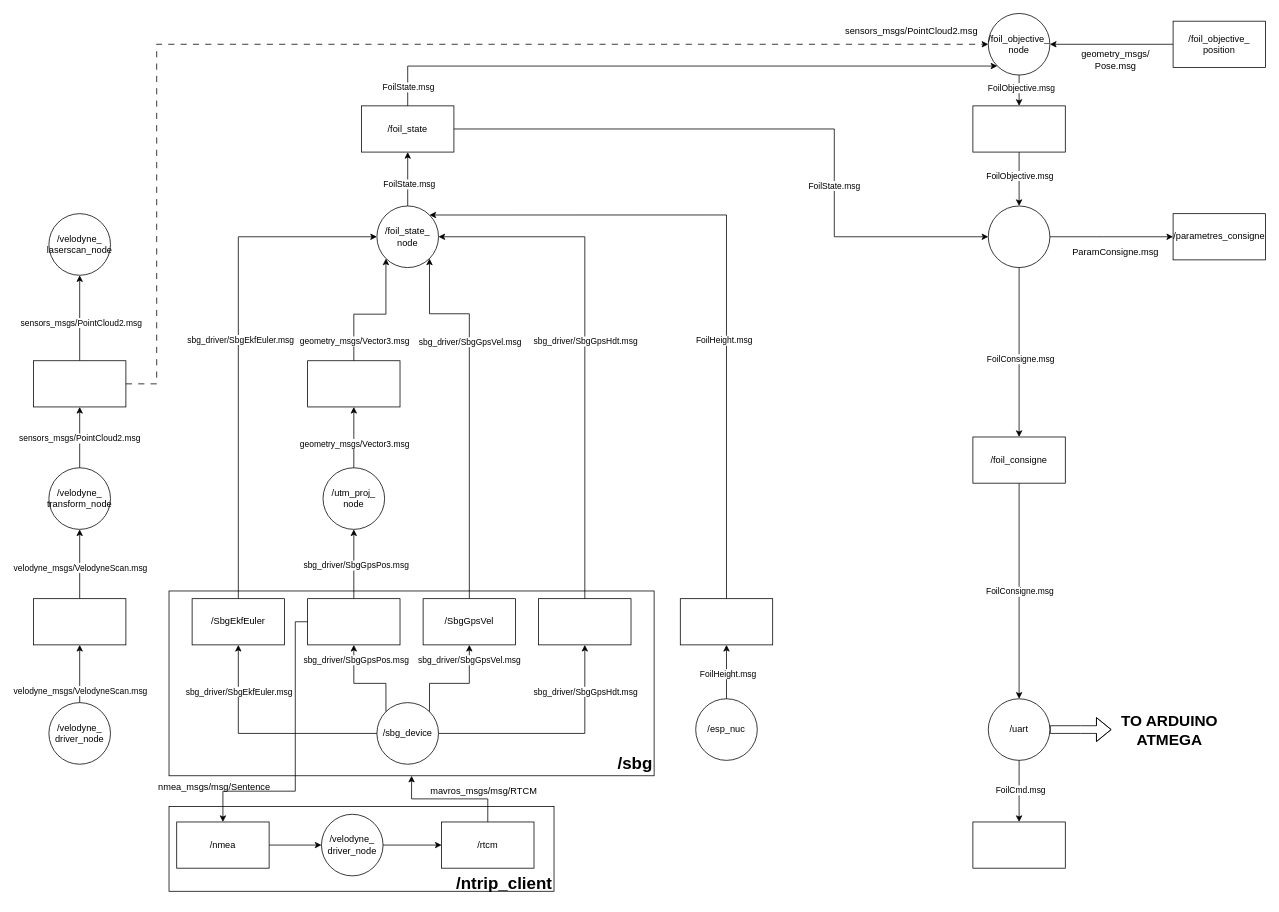
Image size: 1279x912. Some labels were removed from this diagram. Each missing label, with the centre of its shape:
/controler_data: the point at 1018,844
/esp_data: the point at 726,621
/foil_consigne_ node: the point at 1019,236
/foil_objective: the point at 1018,128
/SbgGpsHdt: the point at 584,621
/SbgGpsPos: the point at 353,621
/utm_pose: the point at 353,383
/velodyne_packets: the point at 79,621
/velodyne_points: the point at 79,383
